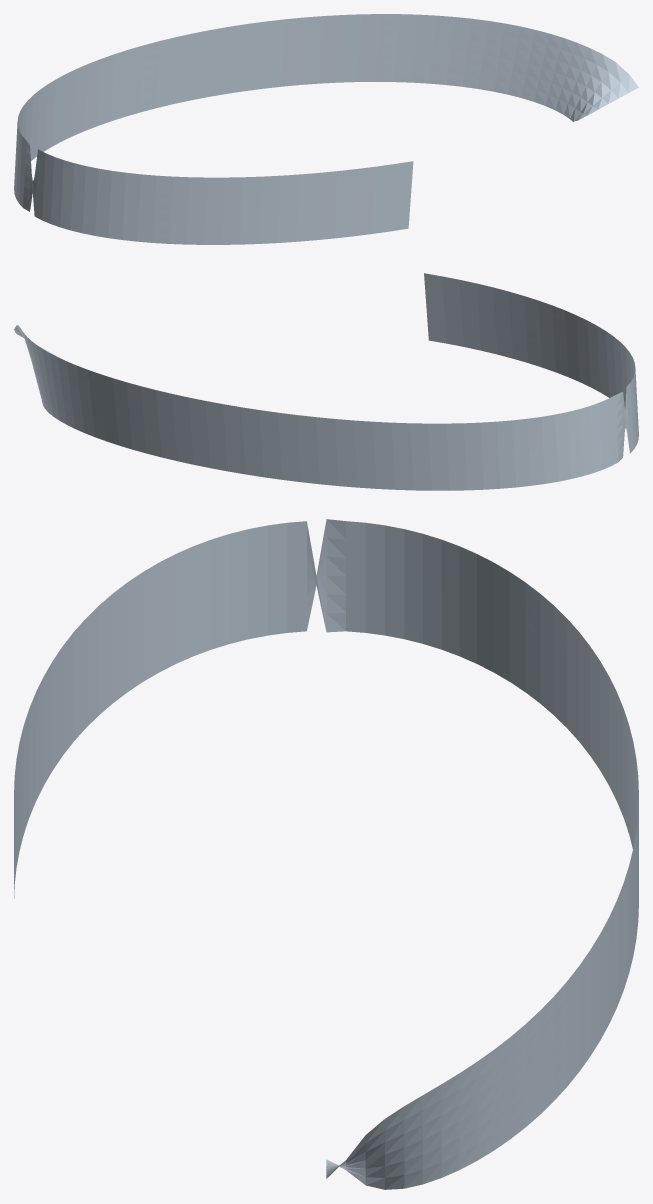
The model's file is 2083_PrimordialShower_Hydro_Counter_Wisp.fbx.
3 renders of one model, top to bottom at view 1: azimuth 30°, elevation 25°; view 2: azimuth 150°, elevation 25°; view 3: azimuth 270°, elevation 25°, orthographic. The views are drawn at different scales.
Visible parts, largest first — view 1: PART_SoftWindWisp; view 2: PART_SoftWindWisp; view 3: PART_SoftWindWisp.
Part boxes in pixels (x1,y1,x2,y2): PART_SoftWindWisp: (14,14,638,244); PART_SoftWindWisp: (14,273,638,490); PART_SoftWindWisp: (14,519,638,1189).
Bounding box in the file's own units: 211 × 40.43 × 110.
